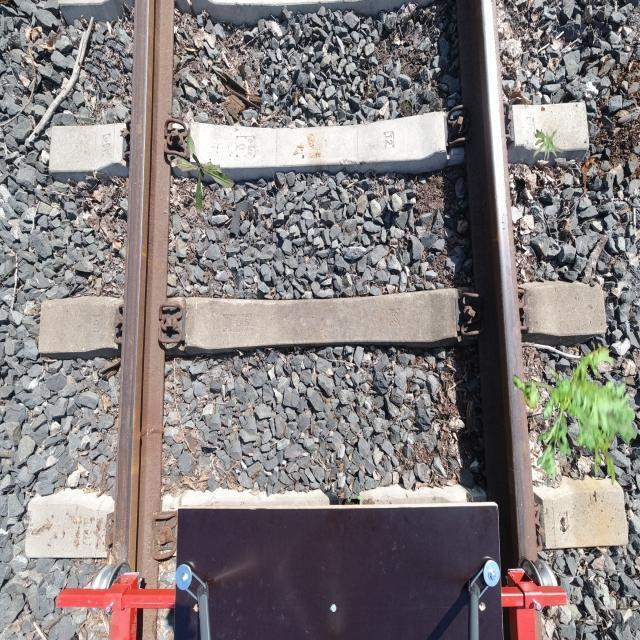Plant: (513, 341, 638, 488), (171, 130, 235, 214), (533, 129, 566, 164)
